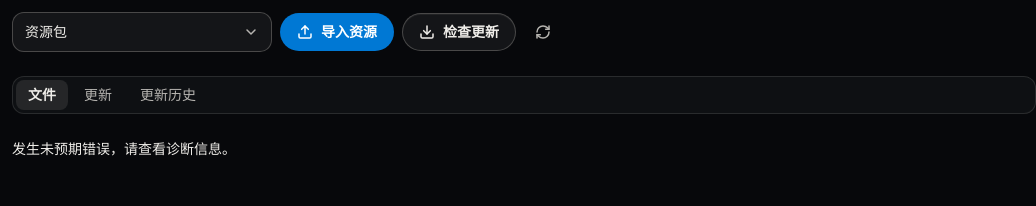
Test case: library and instance details › keeps files pending and failed requests distinct from a successful empty result
The width and height of the screenshot is (1036, 206).
Expected: the message "发生未预期错误，请查看诊断信息。" is shown, [12,139,236,158]
// History has no toolbar button: its tab loads it, and choosing the tab again retries.
Click the button named "刷新" at (543, 32), box [524,13,562,51]
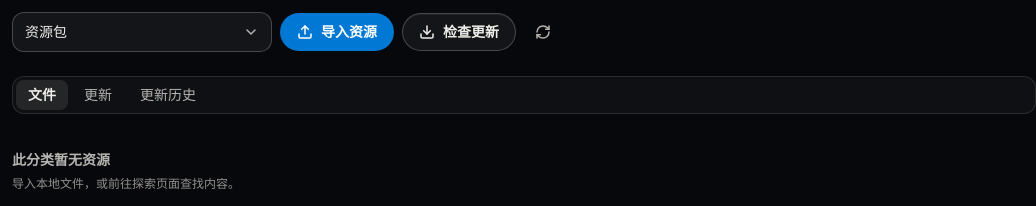
Result: the message "发生未预期错误，请查看诊断信息。" is gone
Result: the heading "此分类暂无资源" is shown at [12,150,110,170]
